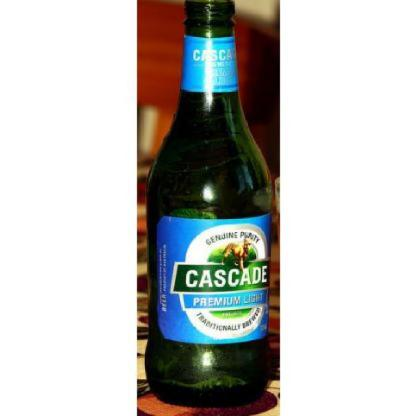Can: (145, 0, 274, 408)
